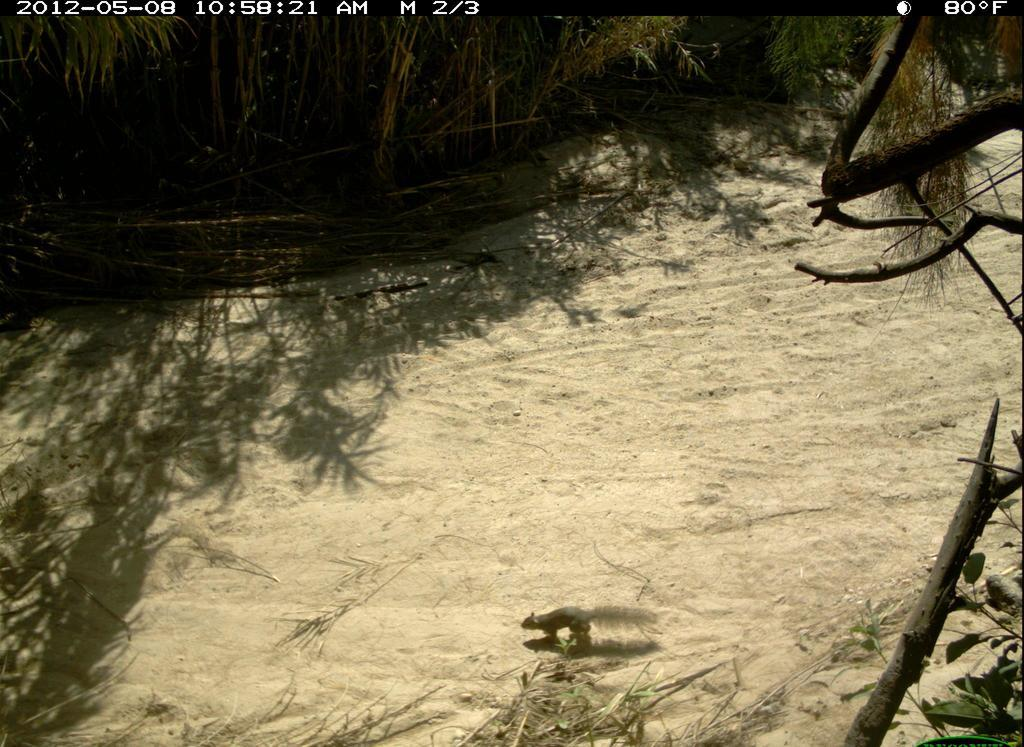squirrel: (501, 588, 670, 671)
